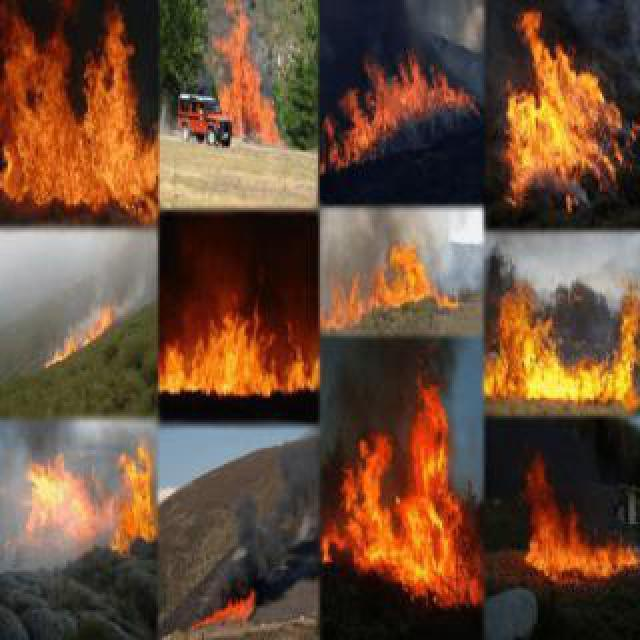fire: (322, 394, 476, 604), (4, 18, 158, 228), (500, 10, 638, 224), (482, 268, 638, 412), (322, 52, 476, 174), (160, 304, 320, 406), (22, 438, 154, 550), (524, 462, 638, 584), (320, 250, 466, 322), (216, 10, 278, 144), (38, 302, 118, 374)
smoke: (224, 480, 290, 596)
